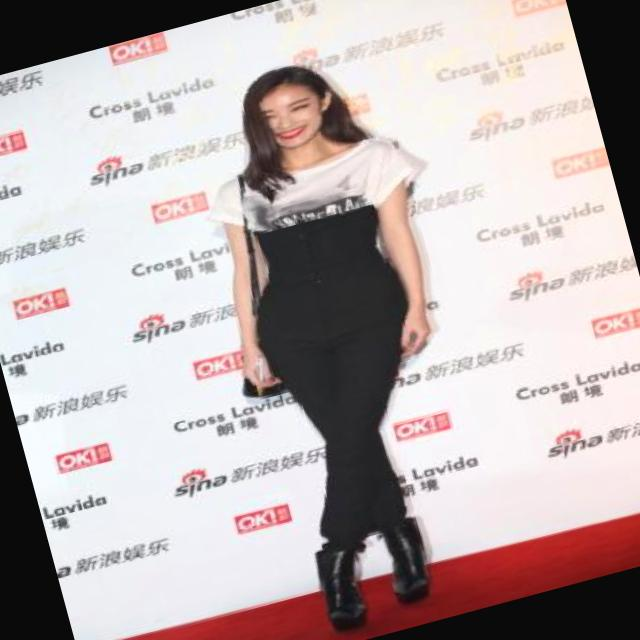Person: (134, 22, 499, 640)
